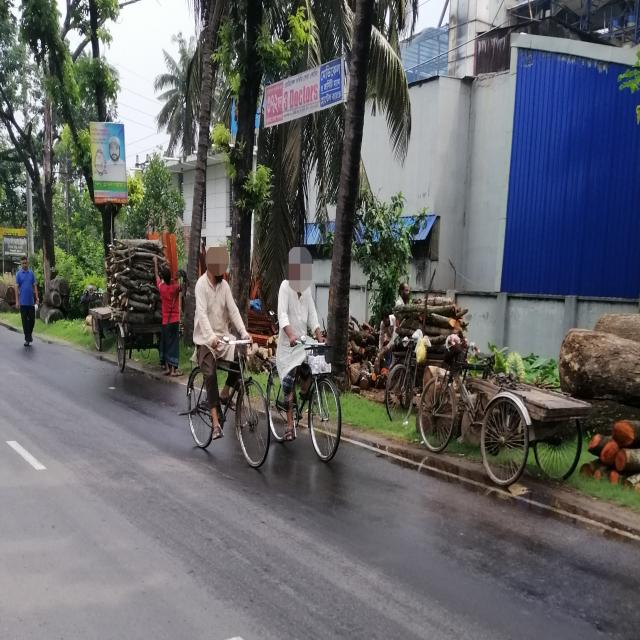Bicycle: (177, 327, 272, 474)
Van: (419, 320, 587, 496)
